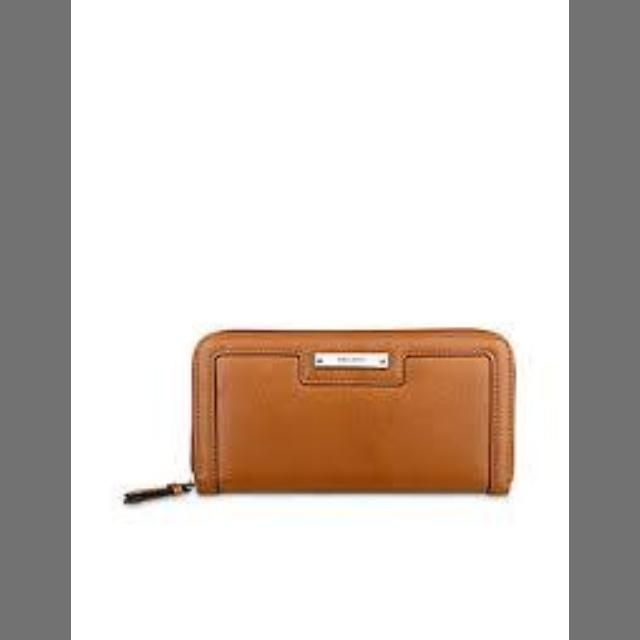Wallet: (180, 329, 528, 503)
